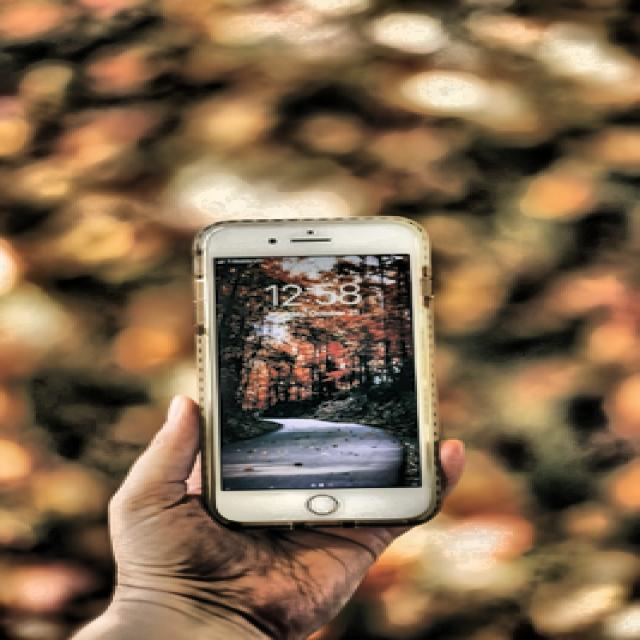Phone: (198, 216, 436, 532)
